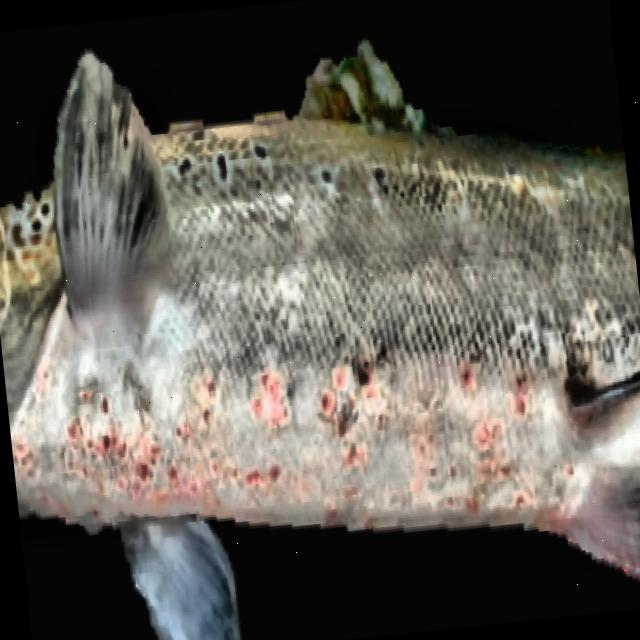mild_red: (10, 121, 625, 569)
